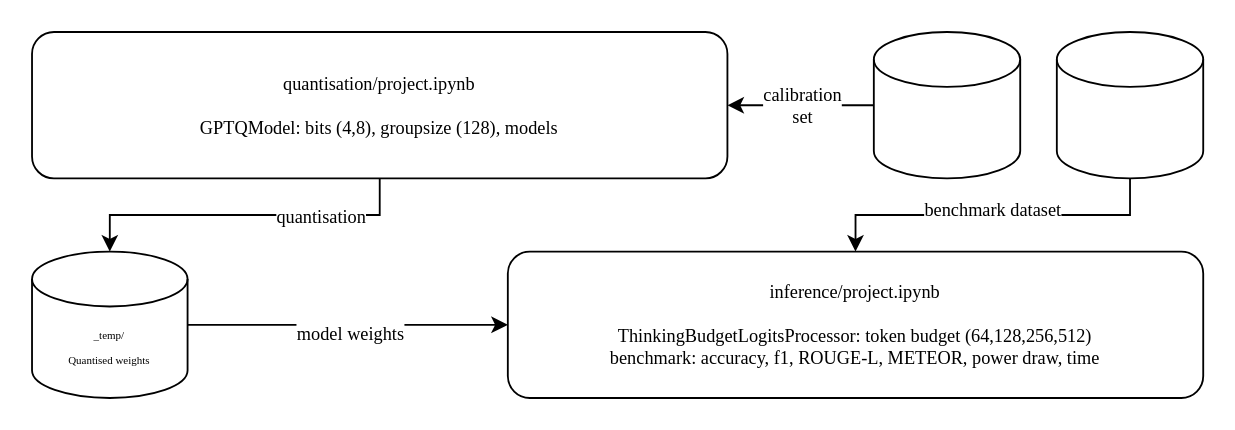
Some shapes in this 1235 by 430 pixel diagram are drawn without their labels. The shapes that lost their labels are listed below. From the top down, each one's box as (x1, y1, x2, y2) in pixels, then its label:
(872, 30, 1020, 178): kaggle calibration subset
(1055, 30, 1203, 178): hugging face hendrycks/competition_math ucinlp/drop
